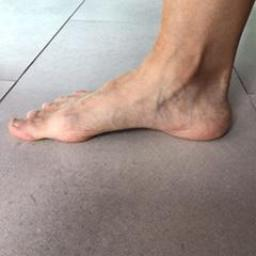Medial View -Right Foot-: (3, 35, 249, 160)
